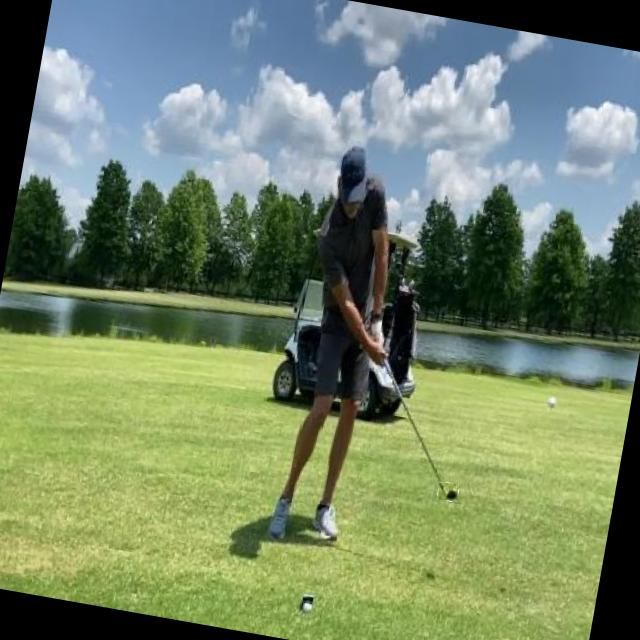club head: (436, 482, 459, 502)
